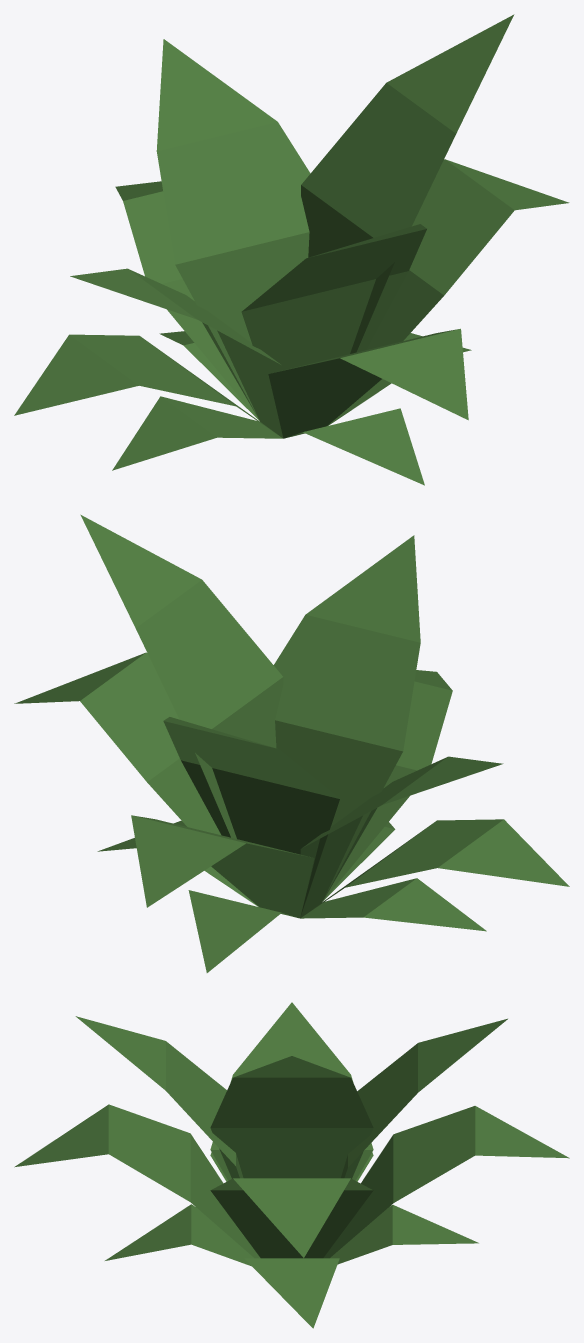
Rendered from understory-a.glb.
3 renders of one model, top to bottom at view 1: azimuth 30°, elevation 25°; view 2: azimuth 150°, elevation 25°; view 3: azimuth 270°, elevation 25°, orthographic. The views are drawn at different scales.
Parts seen in each view (by area): view 1: plant_bushDetailed; view 2: plant_bushDetailed; view 3: plant_bushDetailed.
Part boxes in pixels (box(x1,y1,x2,y2)): plant_bushDetailed: box(14, 14, 569, 485); plant_bushDetailed: box(14, 514, 569, 972); plant_bushDetailed: box(14, 1002, 569, 1328).
Size of the model in its own units: 2.01 by 1.2 by 2.01.
